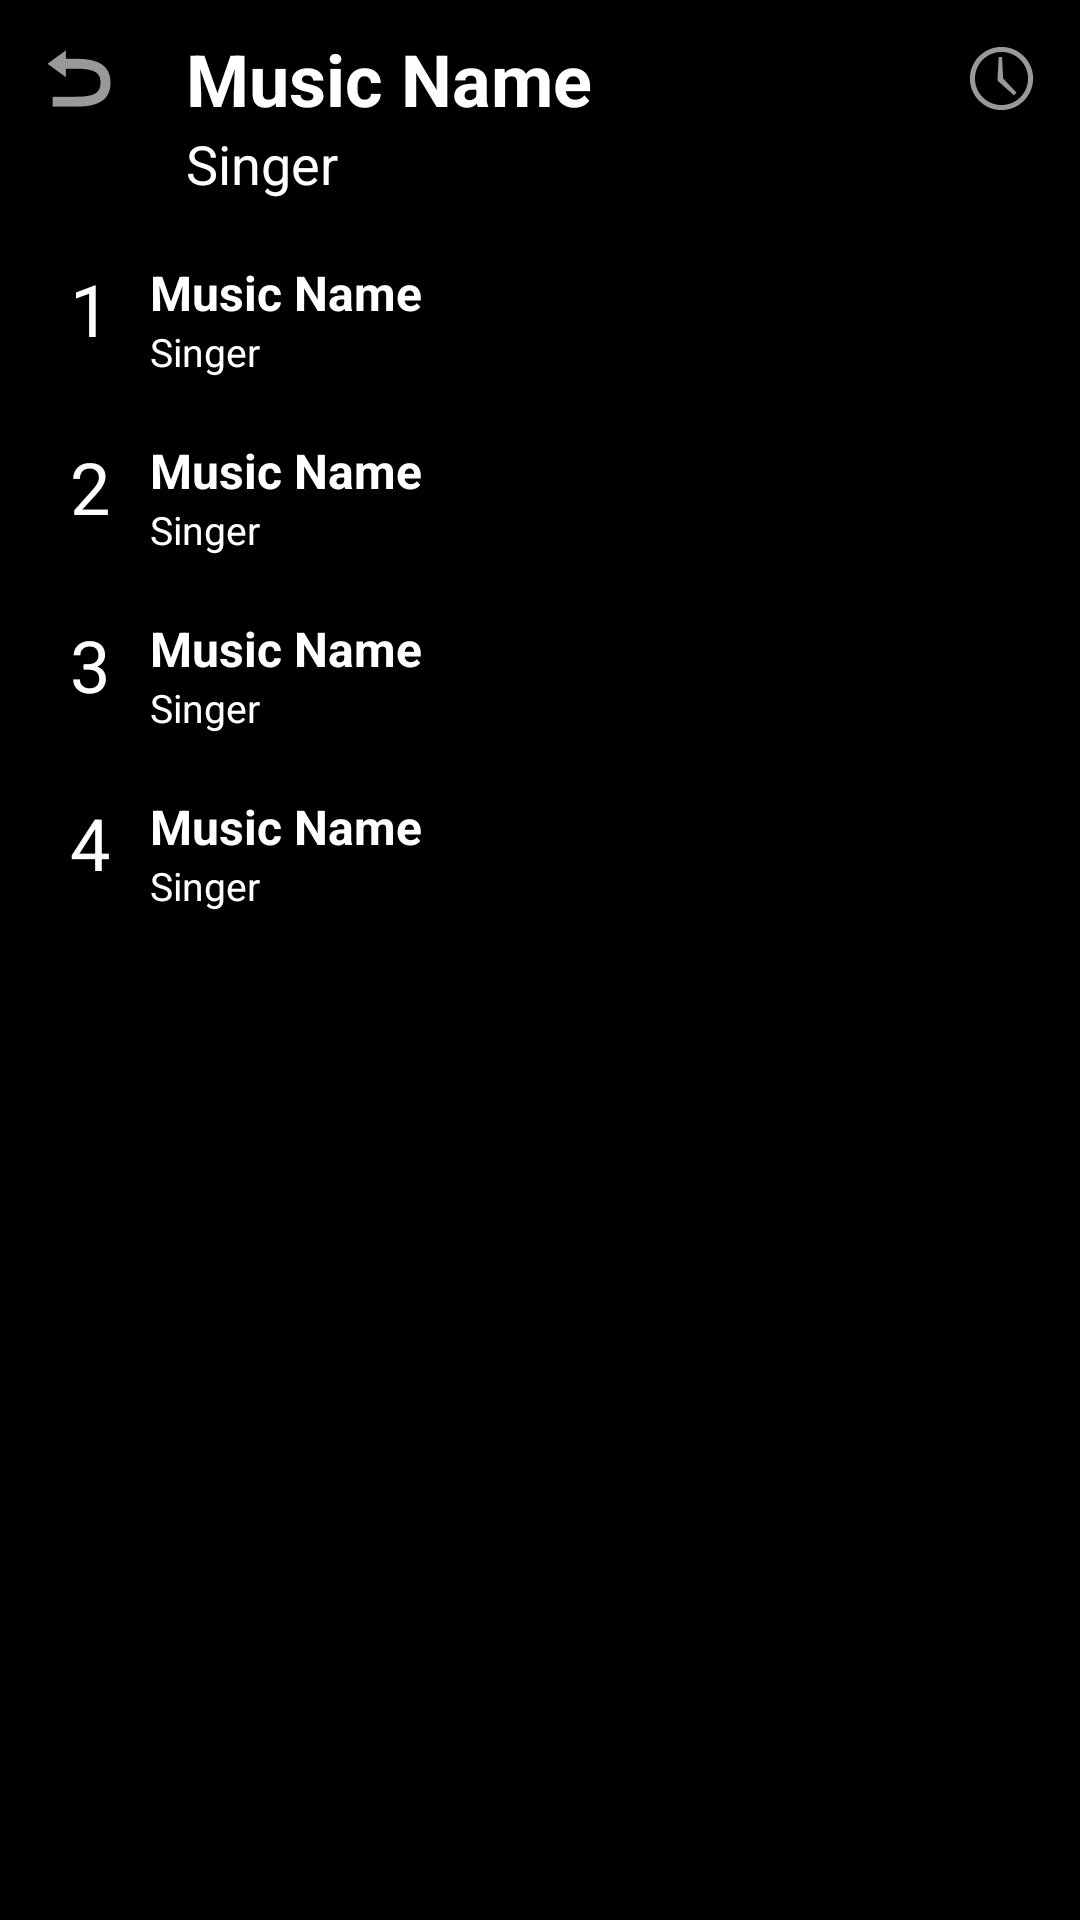

Locate icon controls on the screen. Image size 1080px×1920px, boxes as (x1, y1, x2, y2).
recent history: (970, 47, 1033, 110)
revert: (48, 50, 111, 107)
